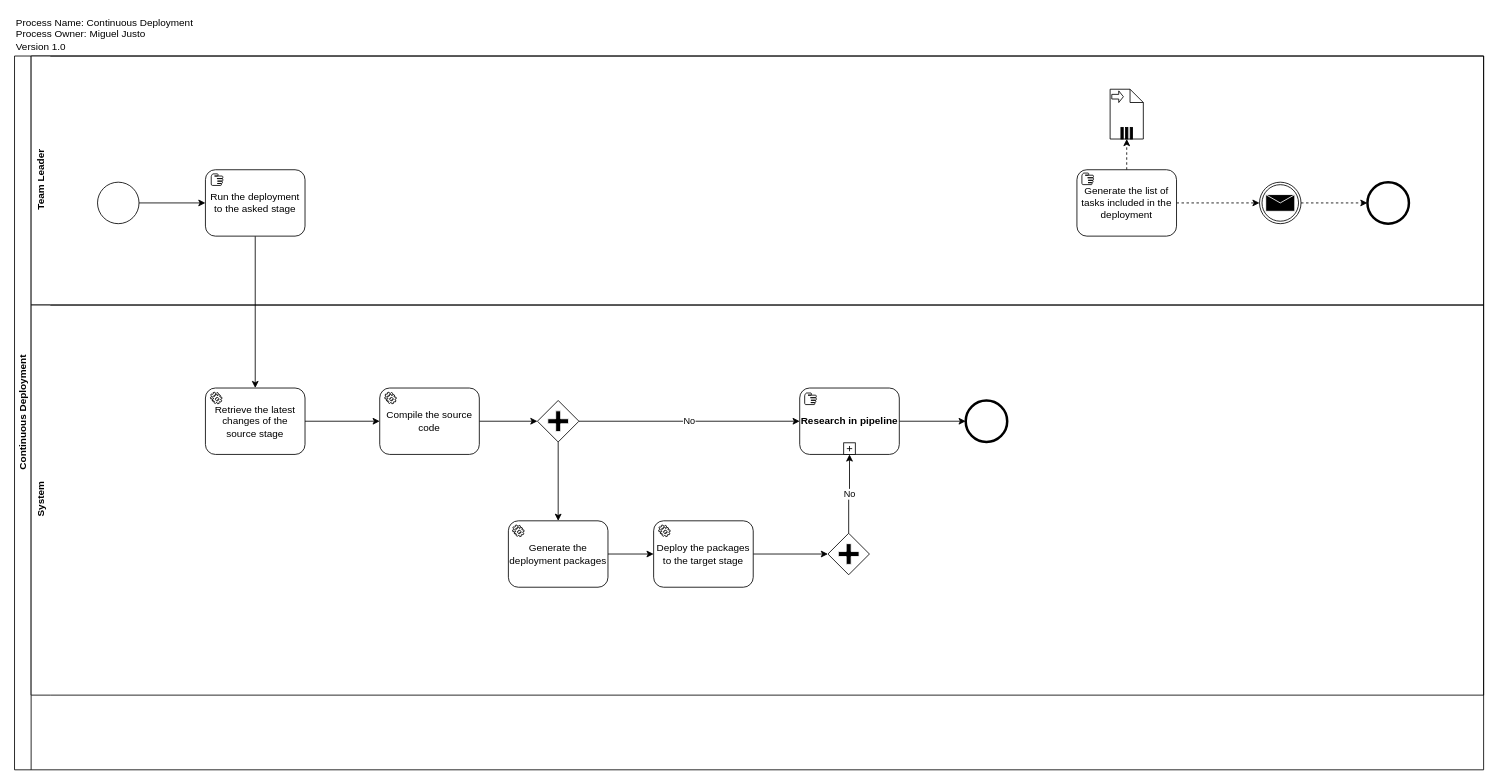
This 1498x784 diagram has some shape labels left out. The centre of each missing label's shape, as x and y in pixels:
"Is the compilation successful?" belongs at [558,421].
"Is the deployment successful?" belongs at [848,553].
"Notify to the stakeholders" belongs at [1280,202].
"Release notes" belongs at [1126,113].
